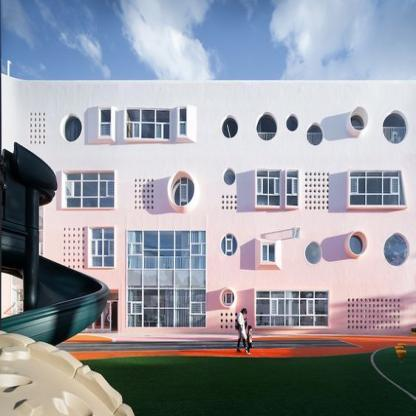Building Outline: (0, 58, 416, 337)
Door: (87, 302, 119, 329)
Facade: (0, 59, 416, 335)
Floor Slab: (128, 269, 205, 285)
Glass Wall: (128, 231, 205, 327), (10, 206, 44, 329)
Window: (256, 292, 328, 327), (350, 171, 406, 206), (66, 174, 114, 208), (127, 110, 170, 138), (92, 228, 114, 267), (256, 172, 280, 206), (287, 172, 298, 206), (261, 244, 275, 264), (101, 110, 111, 136), (87, 293, 119, 301), (180, 110, 186, 136)
